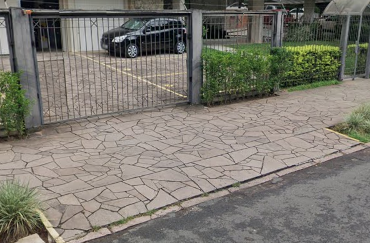vag40: (65, 118, 362, 243)
